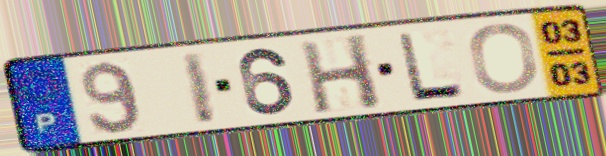6: (235, 45, 299, 118)
9: (77, 59, 145, 135)
H: (295, 31, 386, 116)
I: (177, 48, 221, 128)
L: (393, 30, 470, 103)
O: (466, 21, 542, 95)
